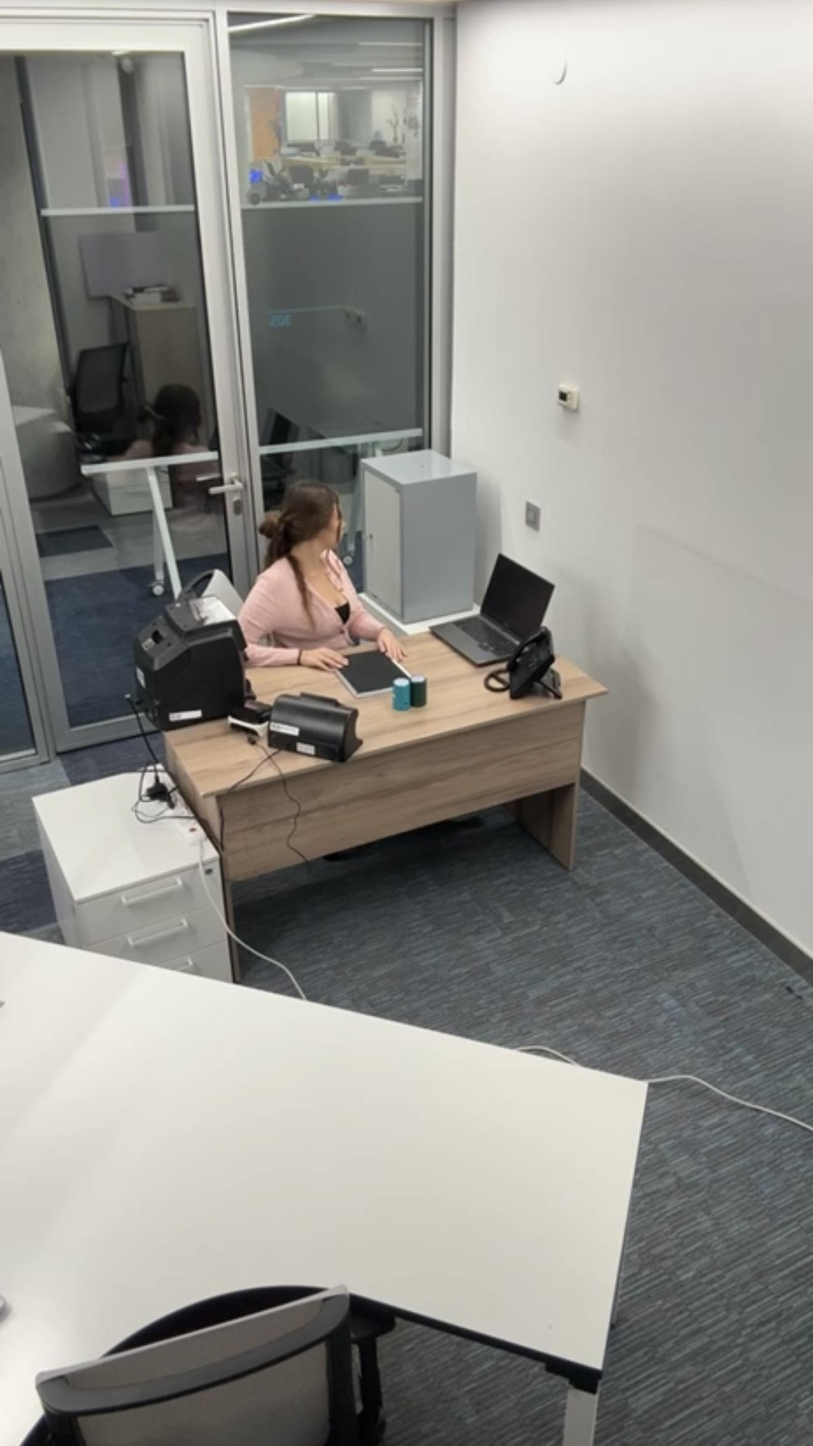counter: (131, 598, 255, 709)
document: (326, 643, 441, 711)
key_in: (353, 524, 384, 557)
uv_lamp: (271, 690, 359, 756)
